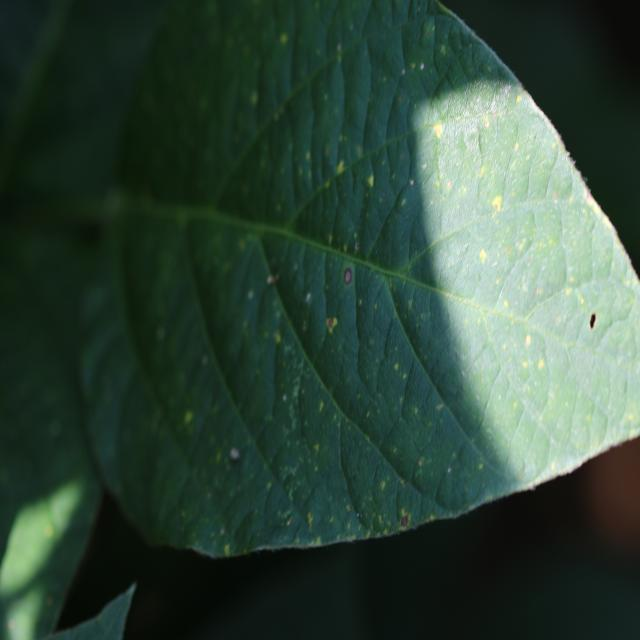Soybean: (0, 0, 640, 640)
downey_mildew: (314, 211, 400, 361), (173, 419, 254, 535), (491, 301, 559, 419), (503, 437, 624, 500), (10, 195, 113, 256), (431, 134, 495, 230), (265, 311, 311, 442), (470, 296, 516, 408), (381, 174, 426, 252), (588, 212, 620, 286), (433, 458, 474, 511), (569, 391, 599, 449), (97, 186, 128, 221), (586, 305, 615, 339), (561, 146, 586, 184), (458, 43, 482, 79), (291, 526, 312, 546), (266, 257, 282, 280), (421, 18, 435, 44), (477, 121, 485, 164), (353, 507, 369, 522), (586, 195, 598, 211), (229, 446, 240, 461), (326, 316, 336, 332), (183, 410, 193, 425), (44, 524, 54, 539), (433, 123, 443, 138), (401, 512, 411, 526), (589, 312, 597, 329), (156, 326, 165, 340), (336, 159, 344, 174), (306, 512, 314, 527), (366, 174, 374, 188), (215, 449, 223, 463), (250, 92, 258, 105), (279, 33, 288, 44), (242, 320, 249, 334), (525, 334, 532, 347), (8, 619, 16, 630), (275, 331, 281, 344), (201, 355, 208, 365), (247, 290, 254, 300), (504, 83, 511, 93), (305, 292, 311, 303), (436, 403, 444, 411), (440, 44, 446, 54), (484, 119, 490, 129), (380, 480, 386, 490), (565, 287, 571, 297), (446, 180, 452, 190), (628, 413, 634, 422), (516, 94, 522, 103), (328, 233, 333, 243), (382, 527, 388, 535), (410, 62, 416, 70), (206, 491, 212, 499), (503, 300, 509, 308), (302, 323, 307, 332), (306, 151, 311, 160), (401, 198, 406, 207), (514, 142, 519, 151), (409, 178, 414, 186), (355, 242, 360, 250), (343, 244, 348, 252), (357, 146, 362, 154), (420, 62, 425, 70), (346, 504, 351, 512), (580, 297, 585, 305), (329, 516, 334, 524), (337, 43, 341, 52), (402, 480, 407, 487), (418, 460, 423, 467), (282, 394, 287, 401), (478, 463, 483, 470), (422, 163, 426, 170), (393, 447, 397, 454), (401, 68, 405, 75), (447, 467, 451, 473)
